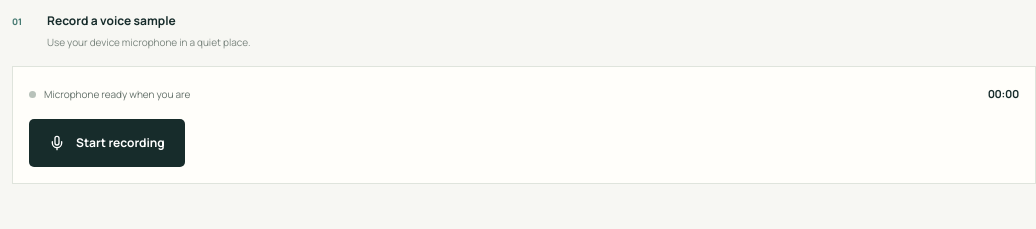
Test: AudioRecorder › explains when browser recording APIs are unavailable
Click the button "Start recording".
click(107, 143)  # box left=29, top=119, right=185, bottom=167
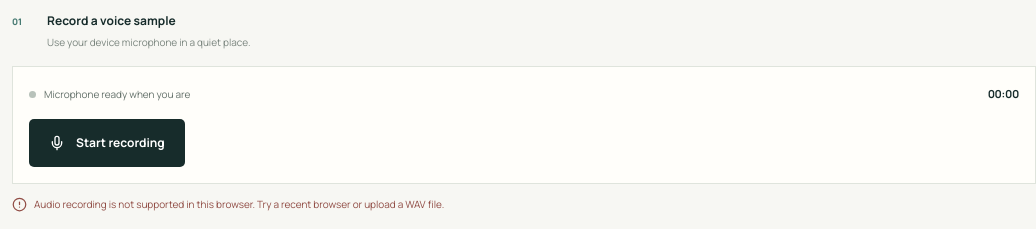
Check: the message shows "not supported in this browser", box left=34, top=197, right=444, bottom=211
